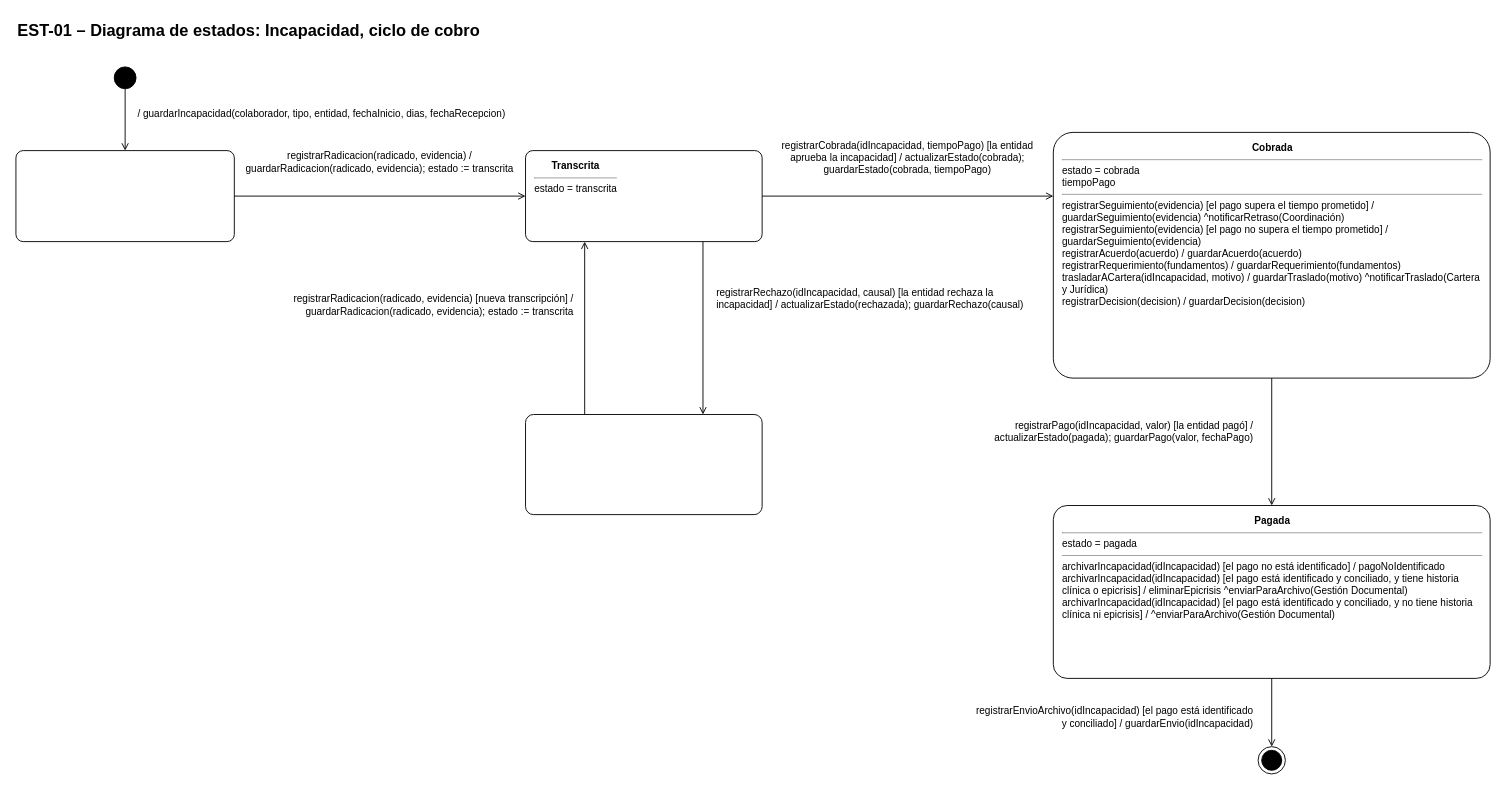
The diagram is 1506 pixels wide and 790 high, and some of its shapes have lost their labels. Here are the shapes that lost their labels. From the top down, the centre of each, then its label:
At (x=124, y=196): "Registrada (sin transcribir) estado = sin valor".
At (x=643, y=464): "Rechazada estado = rechazada causalRechazo".
